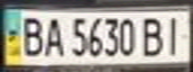0: (118, 15, 139, 57)
3: (103, 15, 124, 58)
5: (66, 14, 87, 58)
6: (84, 15, 106, 58)
A: (39, 15, 66, 57)
B: (18, 12, 48, 57), (139, 15, 169, 57)
I: (160, 12, 190, 56)
